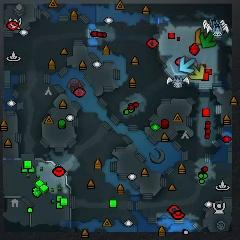x1: (185, 56, 198, 67)
x2: (189, 64, 205, 80)
x3: (179, 57, 195, 73)
x4: (200, 31, 216, 48)
x5: (195, 28, 202, 45)
